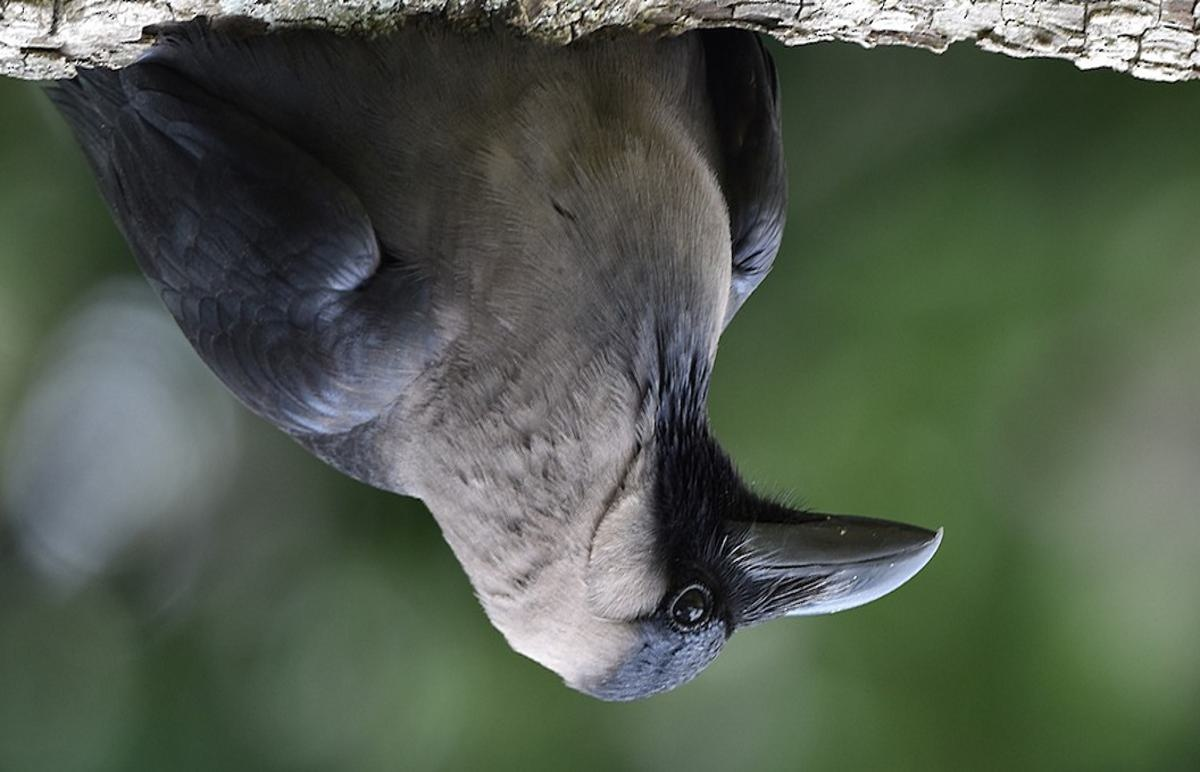crow: (52, 21, 954, 713)
